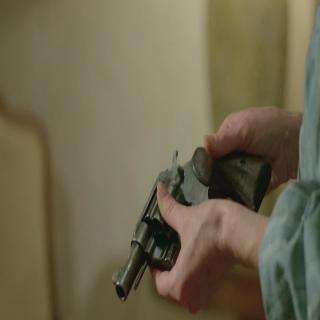gun: (112, 144, 274, 308)
